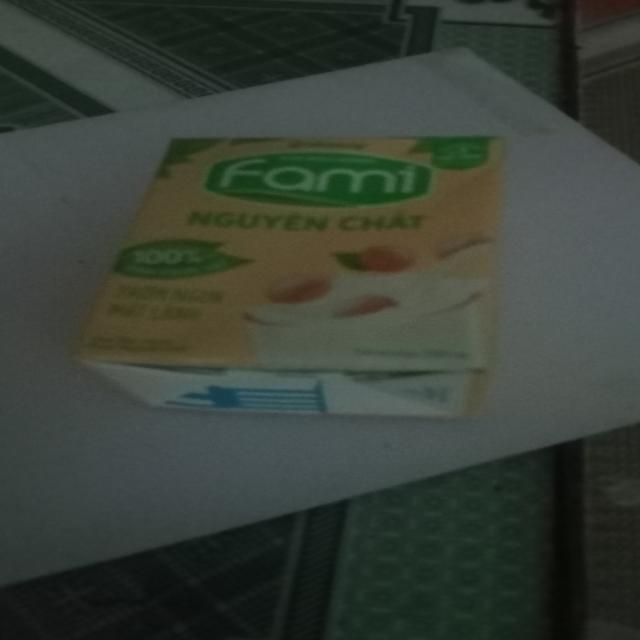Fami: (79, 132, 501, 423)
